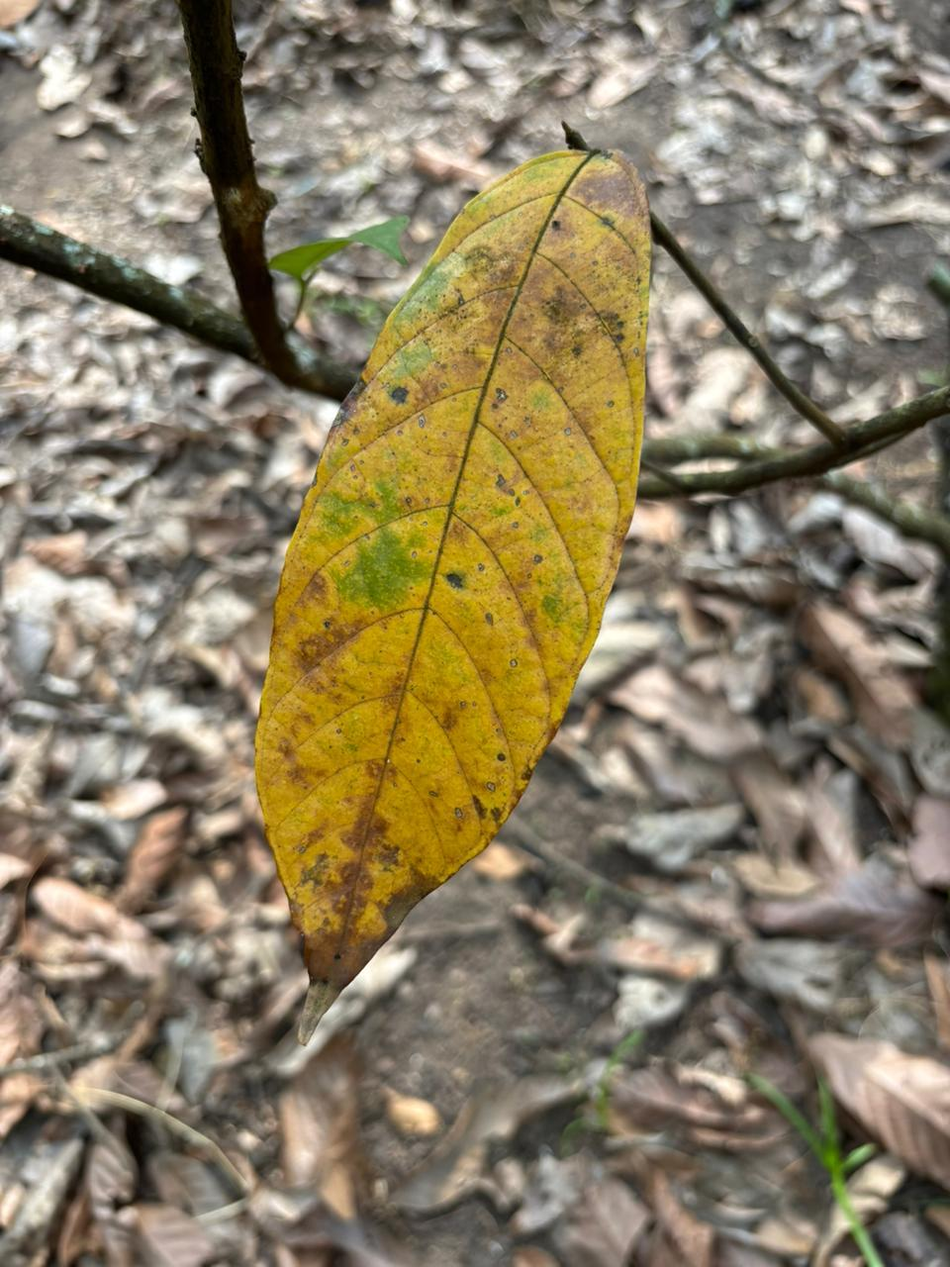deficienciia_fosforo: (255, 149, 650, 1034)
